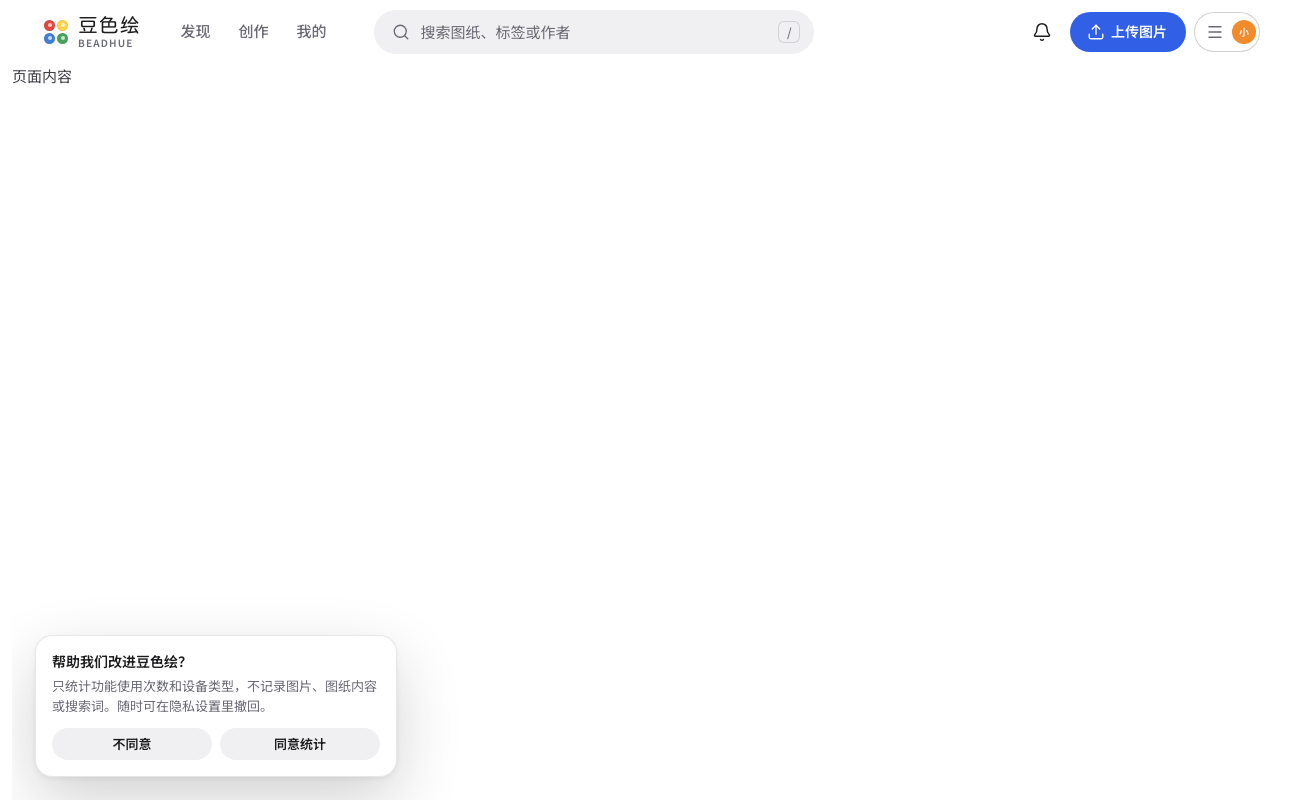
Test: 站点外壳 › 已登录显示头像菜单：原图空间、我的、色板、设置、帮助、隐私、管理后台与退出
The width and height of the screenshot is (1292, 800).
Click the button named "账号菜单": [1227, 32] box left=1194, top=12, right=1260, bottom=52
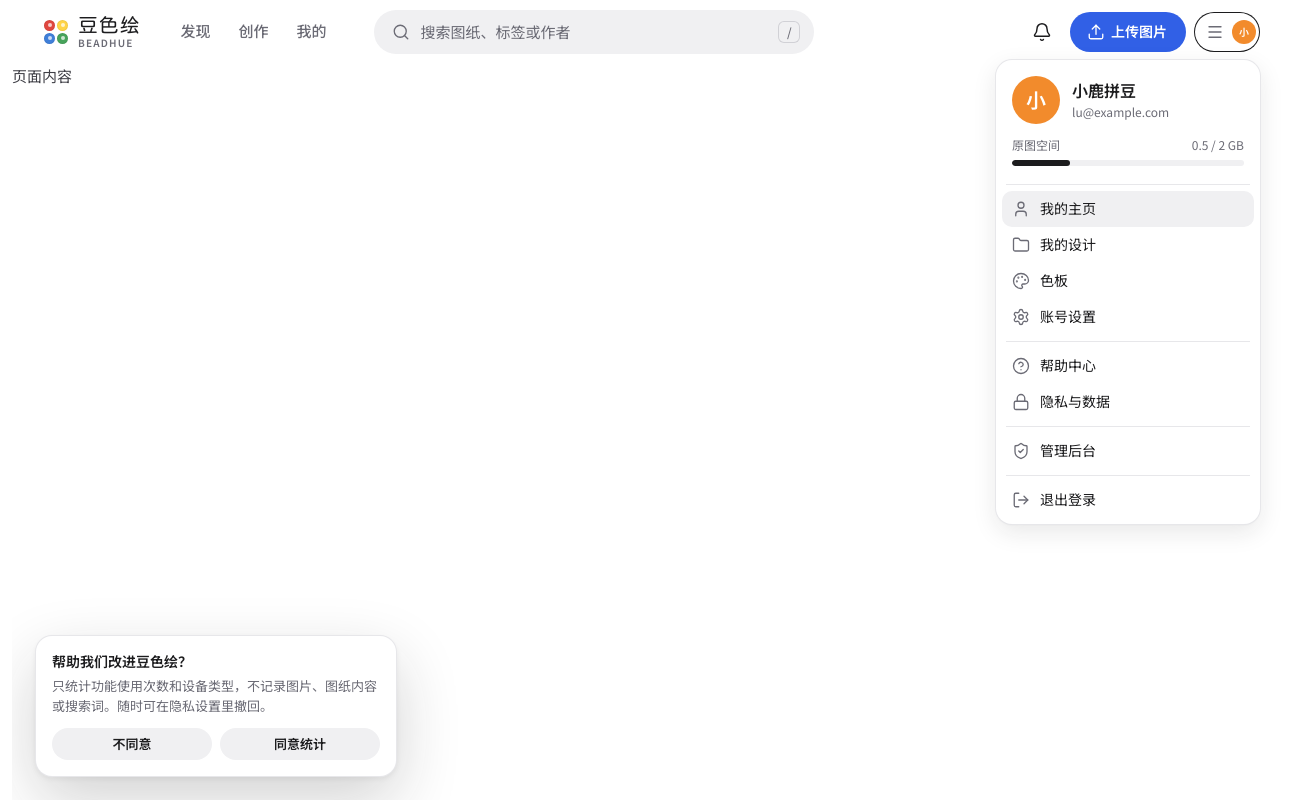
expect the menu item "我的主页" is shown: met, box left=1002, top=191, right=1254, bottom=227
expect the menu item "我的设计" is shown: met, box left=1012, top=236, right=1096, bottom=254
expect the menu item "色板" is shown: met, box left=1012, top=272, right=1068, bottom=290
